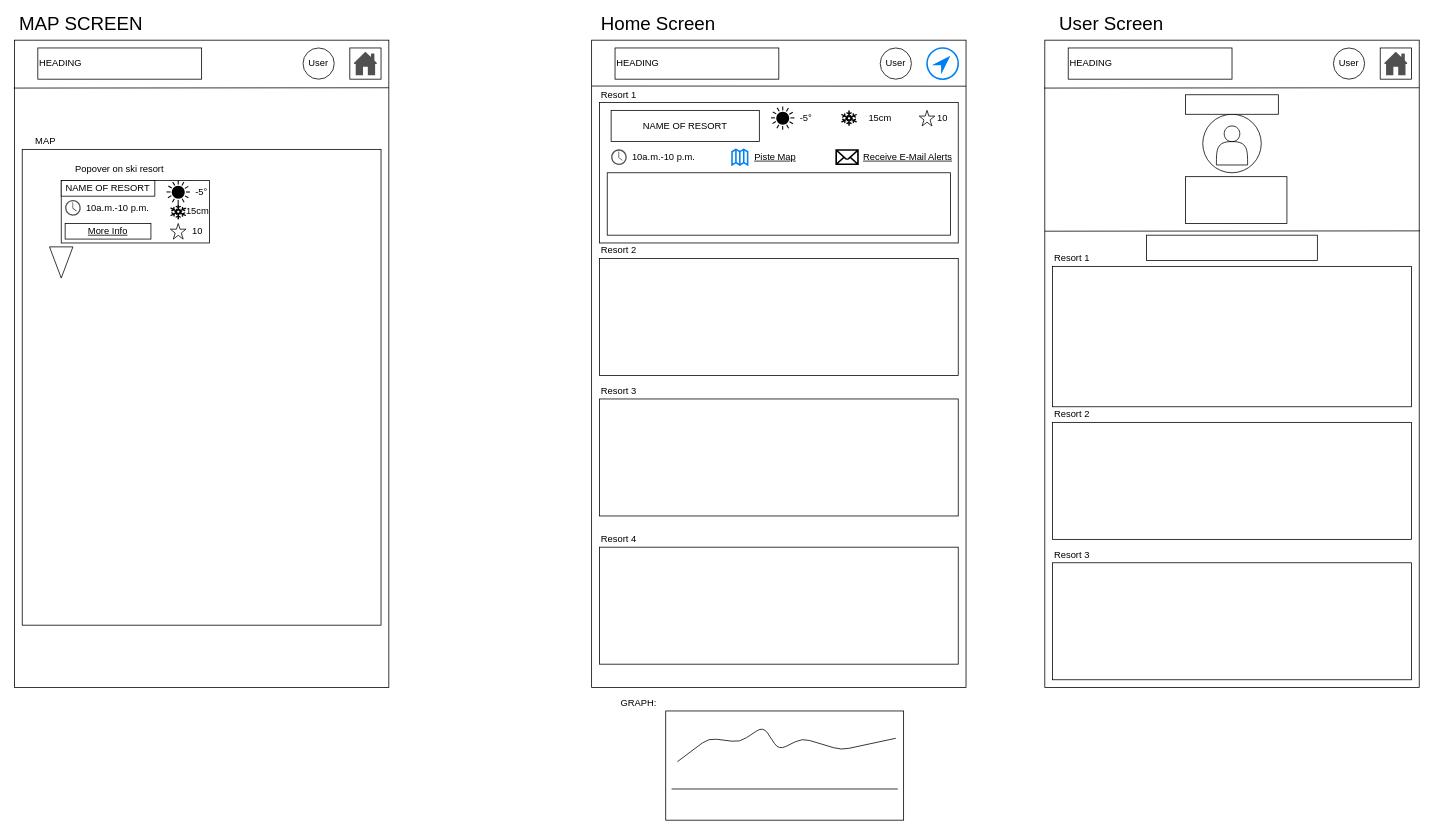
This 1434x834 diagram has some shape labels left out. Each missing label, with the centre of its shape:
Account Photo Log Out Delete Account: [1236,199]
Graph: [778,203]
OCT NOV DEC JAN FEB MAR APR: [784,765]
User Name: [1231,104]
YOUR FAVOURITES: [1231,247]
